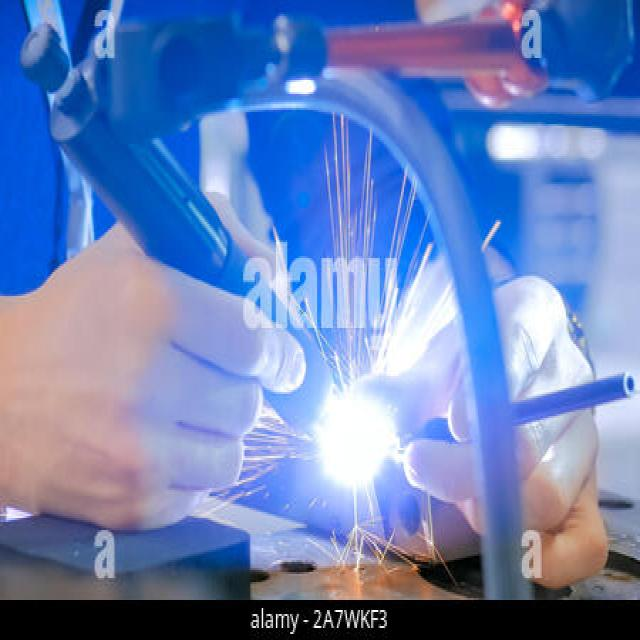welding: (314, 396, 395, 486)
